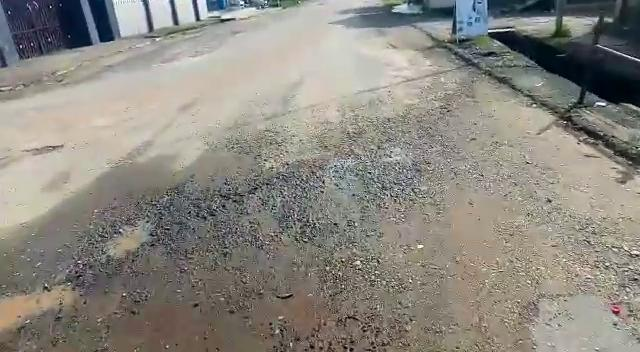pothole: (104, 213, 152, 262)
